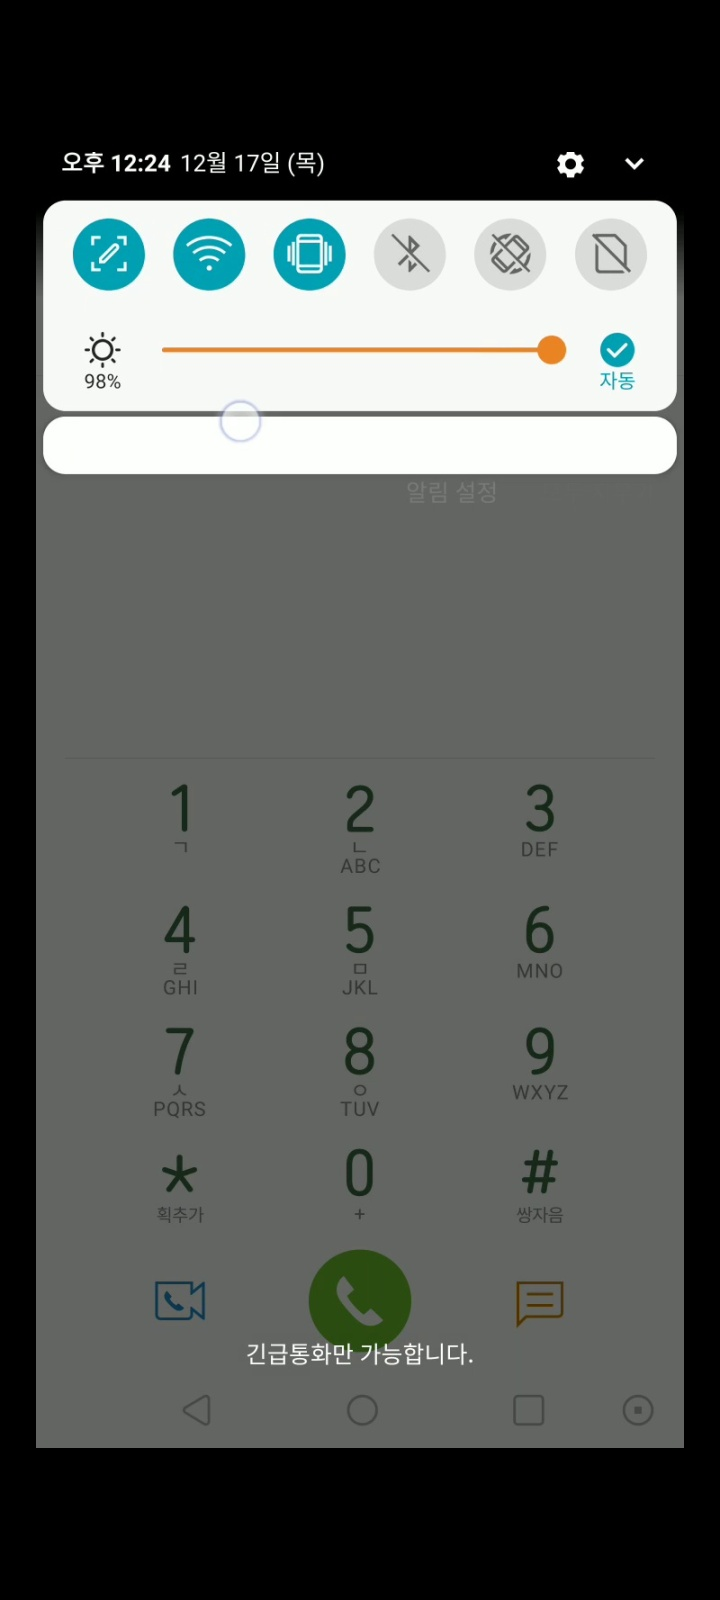Cursor: (219, 399, 264, 444)
